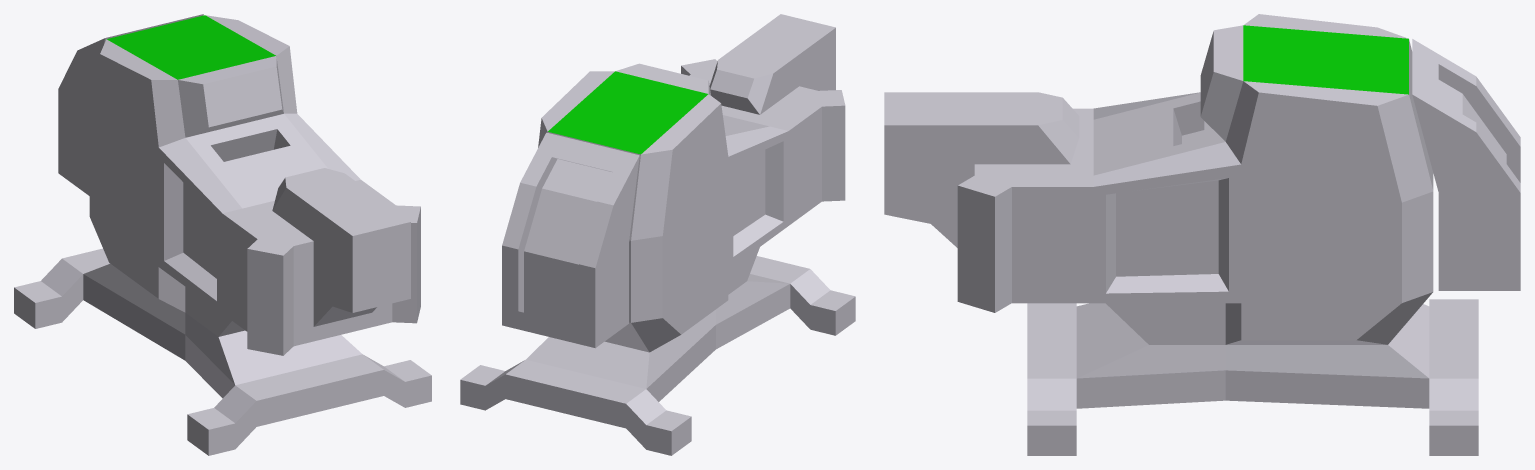
The model's file is Horse Thing.fbx.
3 renders of one model, left to right at view 1: azimuth 30°, elevation 25°; view 2: azimuth 150°, elevation 25°; view 3: azimuth 270°, elevation 25°, orthographic. The views are drawn at different scales.
Parts seen in each view (by area): view 1: Horse Thing; view 2: Horse Thing; view 3: Horse Thing.
Boxes of the visible parts, x1=… form: Horse Thing: x1=14, y1=14, x2=431, y2=455; Horse Thing: x1=460, y1=14, x2=855, y2=455; Horse Thing: x1=884, y1=14, x2=1520, y2=455.
Size of the model in its own units: 0.9974 by 1.26 by 2.12.
